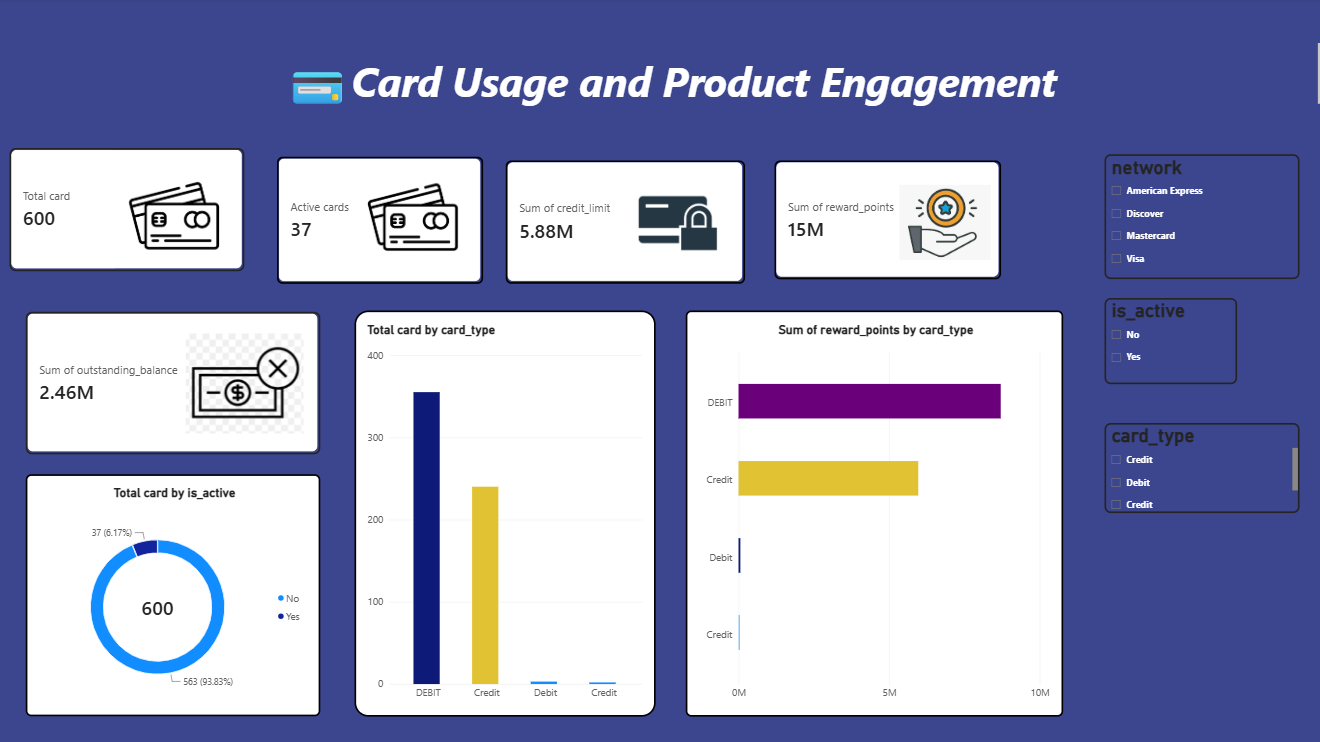

The page's visual inventory and layout, read from the dashboard file:
{"tool":"powerbi","page":{"name":"💳Card Usage and Product ","canvas":[1920,1080],"ordinal":4},"visuals":[{"type":"textbox","box":[381.8,65.1,1538.2,92.3],"z":0},{"type":"cardVisual","fields":{"Data":["accounts.Active cards"]},"box":[406,230,298,184],"z":1000},{"type":"cardVisual","fields":{"Data":["Sum(cards.credit_limit)"]},"box":[736,236,346,178],"z":2000},{"type":"cardVisual","fields":{"Data":["Sum(cards.reward_points)"]},"box":[1126,236,328,172],"z":3000},{"type":"cardVisual","fields":{"Data":["accounts.Total card"]},"box":[18.1,217.2,340,178],"z":4000},{"type":"cardVisual","fields":{"Data":["Sum(cards.outstanding_balance)"]},"box":[42,454,426,206],"z":5000},{"type":"donutChart","fields":{"Category":["cards.is_active"],"Y":["accounts.Total card"]},"box":[42,690,426,350],"z":6000},{"type":"columnChart","fields":{"Category":["cards.card_type"],"Y":["accounts.Total card"]},"box":[518,452,436,588],"z":7000},{"type":"barChart","fields":{"Category":["cards.card_type"],"Y":["Sum(cards.reward_points)"]},"box":[998,452,546,588],"z":8000},{"type":"slicer","fields":{"Values":["cards.is_active"]},"box":[1603.4,434.3,191.8,124.9],"z":9000},{"type":"slicer","fields":{"Values":["cards.network"]},"box":[1603.4,226.2,282.3,181],"z":10000},{"type":"slicer","fields":{"Values":["cards.card_type"]},"box":[1603.4,615.3,282.3,130.3],"z":11000},{"type":"image","box":[172,244,170,150],"z":12000},{"type":"image","box":[518,246,170,150],"z":13000},{"type":"image","box":[910,250,154,150],"z":14000},{"type":"image","box":[274,484,170,150],"z":15000},{"type":"image","box":[1306,250,132,150],"z":16000}]}

Visuals, with their boxes in screenshot pixels (x1, y1, x2, y2), scaled from the page's 1920x1080 canvas onto the 1320x742 screenshot:
textbox: left=262, top=45, right=1319, bottom=108
cardVisual - accounts.Active cards: left=279, top=158, right=484, bottom=284
cardVisual - Sum(cards.credit_limit): left=506, top=162, right=744, bottom=284
cardVisual - Sum(cards.reward_points): left=774, top=162, right=1000, bottom=280
cardVisual - accounts.Total card: left=12, top=149, right=246, bottom=272
cardVisual - Sum(cards.outstanding_balance): left=29, top=312, right=322, bottom=453
donutChart - cards.is_active x accounts.Total card: left=29, top=474, right=322, bottom=715
columnChart - cards.card_type x accounts.Total card: left=356, top=311, right=656, bottom=715
barChart - cards.card_type x Sum(cards.reward_points): left=686, top=311, right=1062, bottom=715
slicer - cards.is_active: left=1102, top=298, right=1234, bottom=384
slicer - cards.network: left=1102, top=155, right=1296, bottom=280
slicer - cards.card_type: left=1102, top=423, right=1296, bottom=512
image: left=118, top=168, right=235, bottom=271
image: left=356, top=169, right=473, bottom=272
image: left=626, top=172, right=732, bottom=275
image: left=188, top=333, right=305, bottom=436
image: left=898, top=172, right=989, bottom=275
